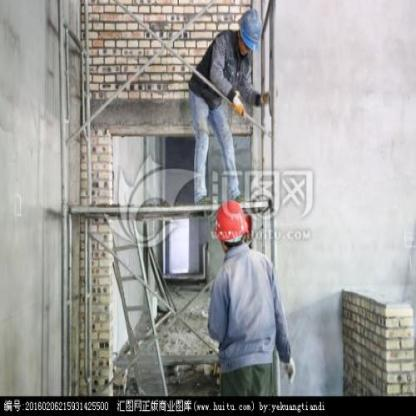helmet: (214, 199, 249, 255), (236, 6, 263, 55)
